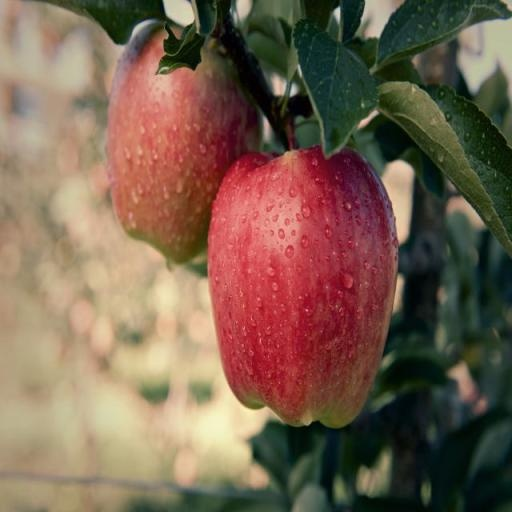fruit: (208, 147, 396, 427), (107, 28, 259, 262)
